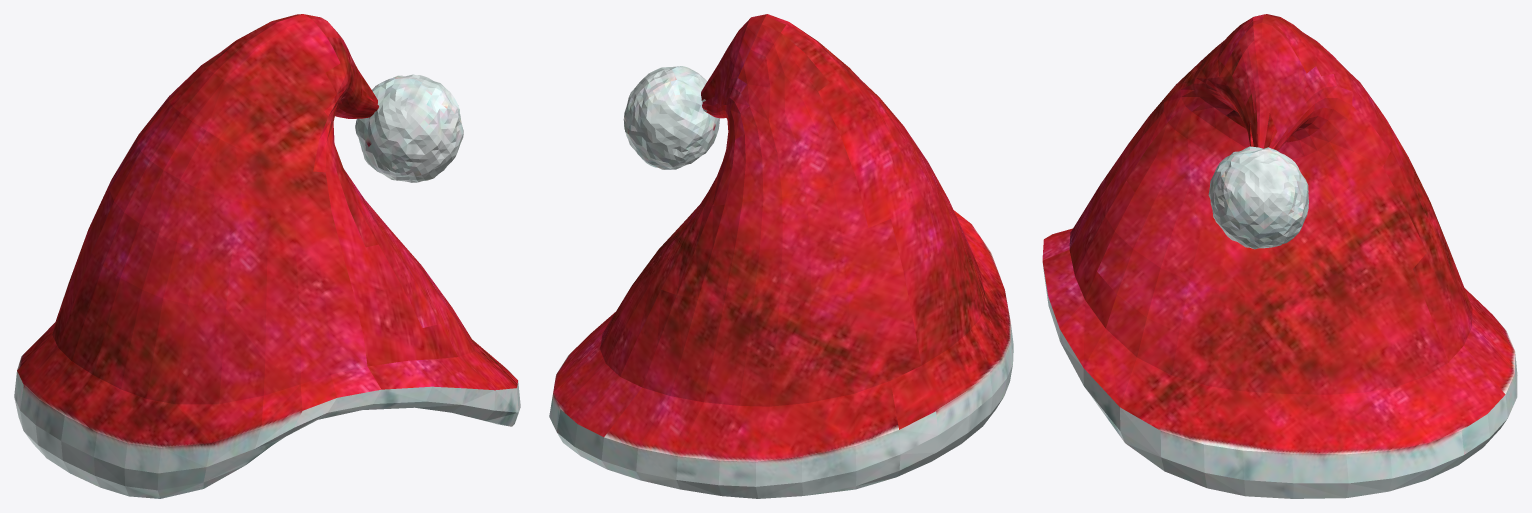
File: mhw_elvs_santa_hat.glb
The picture shows the model from 3 angles, left to right: view 1: azimuth 30°, elevation 25°; view 2: azimuth 150°, elevation 25°; view 3: azimuth 270°, elevation 25°; orthographic projection. The views are drawn at different scales.
Parts seen in each view (by area): view 1: mhw_elvs_santa_hat; view 2: mhw_elvs_santa_hat; view 3: mhw_elvs_santa_hat.
Boxes of the visible parts, x1,y1,x2,y2 form: mhw_elvs_santa_hat: (14,14,520,498); mhw_elvs_santa_hat: (549,14,1013,498); mhw_elvs_santa_hat: (1042,14,1517,498).
Size of the model in its own units: 0.2696 by 0.261 by 0.282.
Materials: 1 (1 with a texture image).
